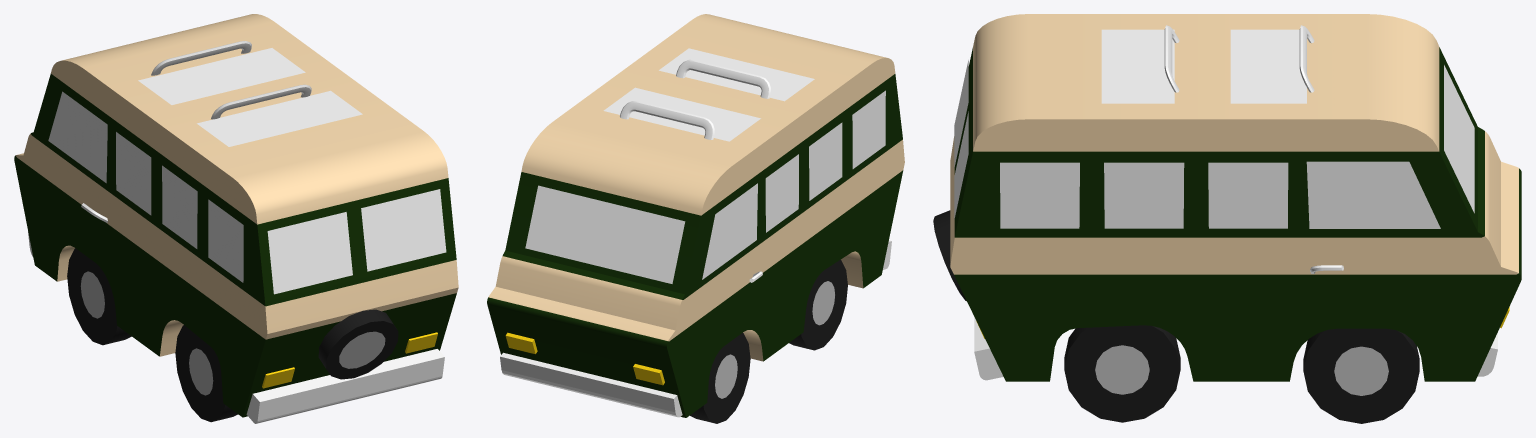
File: пакистан_дляигры.fbx
3 renders of one model, left to right at view 1: azimuth 30°, elevation 25°; view 2: azimuth 150°, elevation 25°; view 3: azimuth 270°, elevation 25°, orthographic. The views are drawn at different scales.
Visible parts, largest first — view 1: Cube, Plane.007, Cube.002, Plane.004, Plane.003, Plane, Plane.001, Cylinder.006, Cylinder.001, Cylinder, Plane.002, Cylinder.005 (+3 smaller); view 2: Cube, Plane.005, Plane.007, Cube.001, Plane, Cylinder.001, Cylinder, Plane.001, Plane.002, Cylinder.004, Cylinder.005, Cube.003 (+1 smaller); view 3: Cube, Plane.007, Cylinder, Cylinder.001, Plane.002, Plane, Plane.001, Plane.005, Cube.002, Cylinder.006, Plane.004, Plane.003 (+2 smaller).
Boxes of the visible parts, x1,y1,x2,y2 form: Cube: (14, 14, 458, 417); Plane.007: (116, 132, 243, 282); Cube.002: (246, 349, 444, 423); Plane.004: (361, 189, 446, 271); Plane.003: (267, 212, 352, 294); Plane: (138, 48, 305, 104); Plane.001: (197, 90, 362, 146); Cylinder.006: (318, 309, 398, 379); Cylinder.001: (67, 248, 131, 345); Cylinder: (175, 325, 237, 422); Plane.002: (48, 91, 107, 183); Cylinder.005: (211, 84, 311, 119); Cube: (487, 14, 904, 417); Plane.005: (525, 185, 685, 283); Plane.007: (765, 90, 885, 232); Cube.001: (500, 352, 682, 417); Plane: (603, 87, 760, 141); Cylinder.001: (690, 332, 750, 423); Cylinder: (789, 259, 847, 350); Plane.001: (659, 48, 814, 101); Plane.002: (702, 183, 757, 279); Cylinder.004: (620, 101, 714, 139); Cylinder.005: (676, 59, 770, 98); Cube.003: (505, 332, 537, 354); Cube: (950, 14, 1521, 381); Plane.007: (1000, 162, 1288, 228); Cylinder: (1064, 325, 1180, 422); Cylinder.001: (1303, 328, 1419, 423); Plane.002: (1306, 161, 1440, 228); Plane: (1230, 29, 1306, 103); Plane.001: (1101, 29, 1174, 103); Plane.005: (1444, 65, 1474, 213); Cube.002: (974, 317, 1003, 380); Cylinder.006: (933, 210, 966, 300); Plane.004: (954, 111, 968, 219); Plane.003: (954, 60, 968, 167).
Size of the model in its own units: 134 by 172 by 279.
